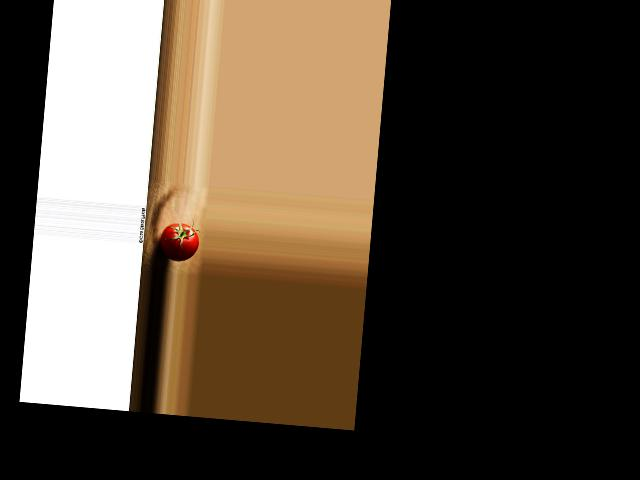tomato: (158, 221, 199, 262)
